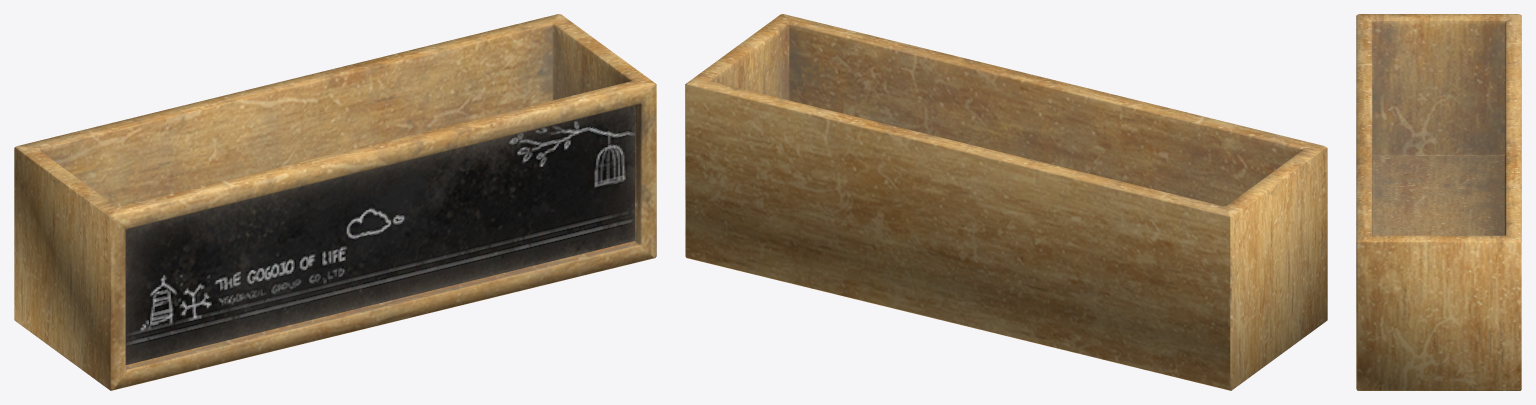
File: woodBox.FBX
3 views of the same model, side by side, from view 1: azimuth 30°, elevation 25°; view 2: azimuth 150°, elevation 25°; view 3: azimuth 270°, elevation 25° (orthographic). The views are drawn at different scales.
Parts seen in each view (by area): view 1: SM_WoodBox; view 2: SM_WoodBox; view 3: SM_WoodBox.
Part boxes in pixels (x1,y1,x2,y2): SM_WoodBox: (14,14,656,390); SM_WoodBox: (685,14,1327,390); SM_WoodBox: (1356,14,1521,390).
Size of the model in its own units: 27 by 8.25 by 8.25.
1 material, 1 textured.
